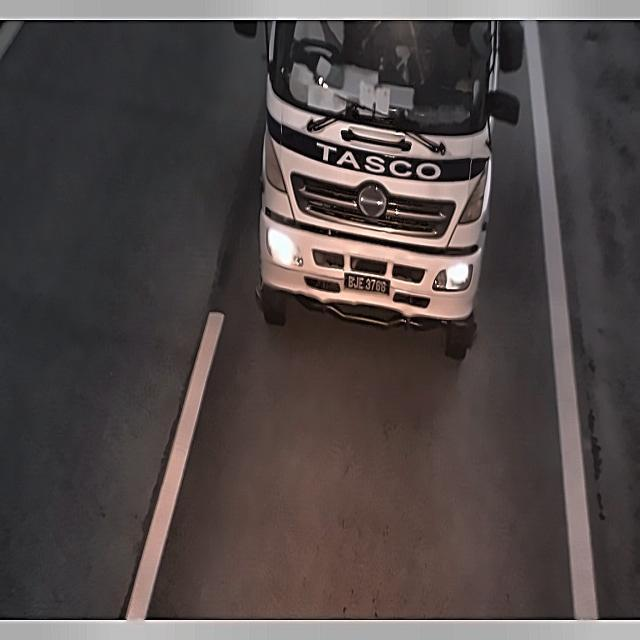car: (338, 262, 396, 302)
